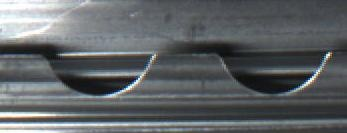twou: (47, 42, 307, 102)
